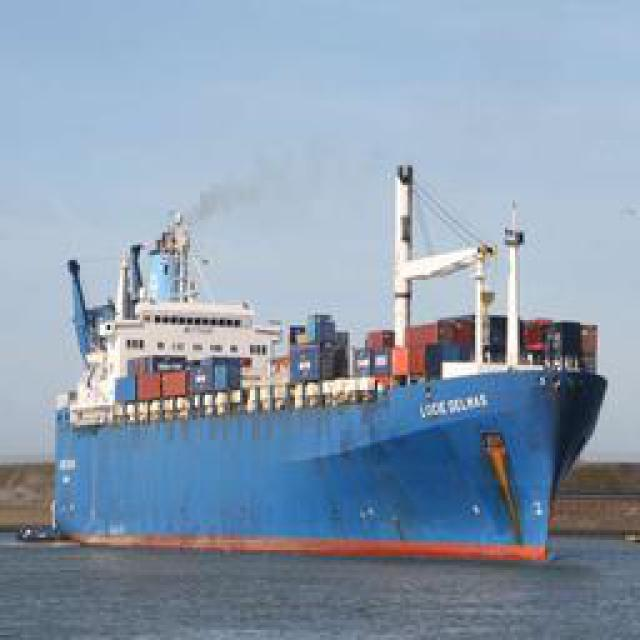Ship: (46, 159, 614, 562)
